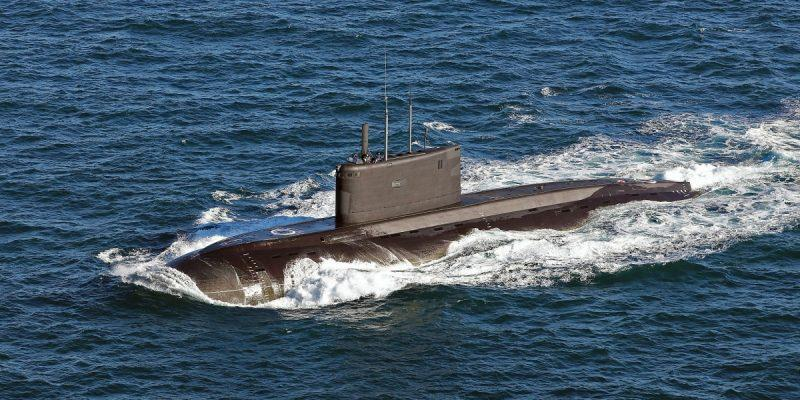Submarine: (84, 47, 780, 346)
